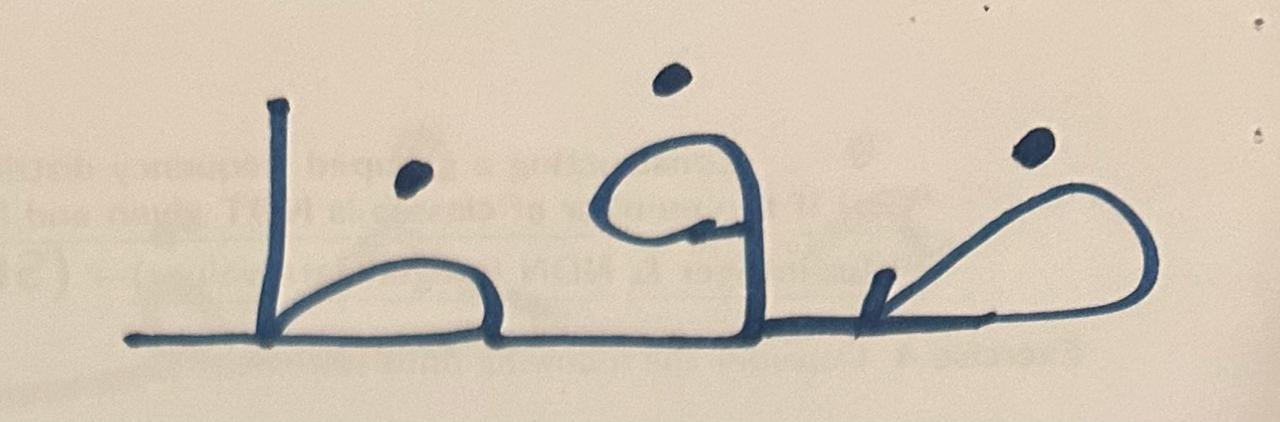khah: (828, 39, 1213, 403)
lam: (78, 9, 529, 399)
sheen: (535, 13, 824, 396)
